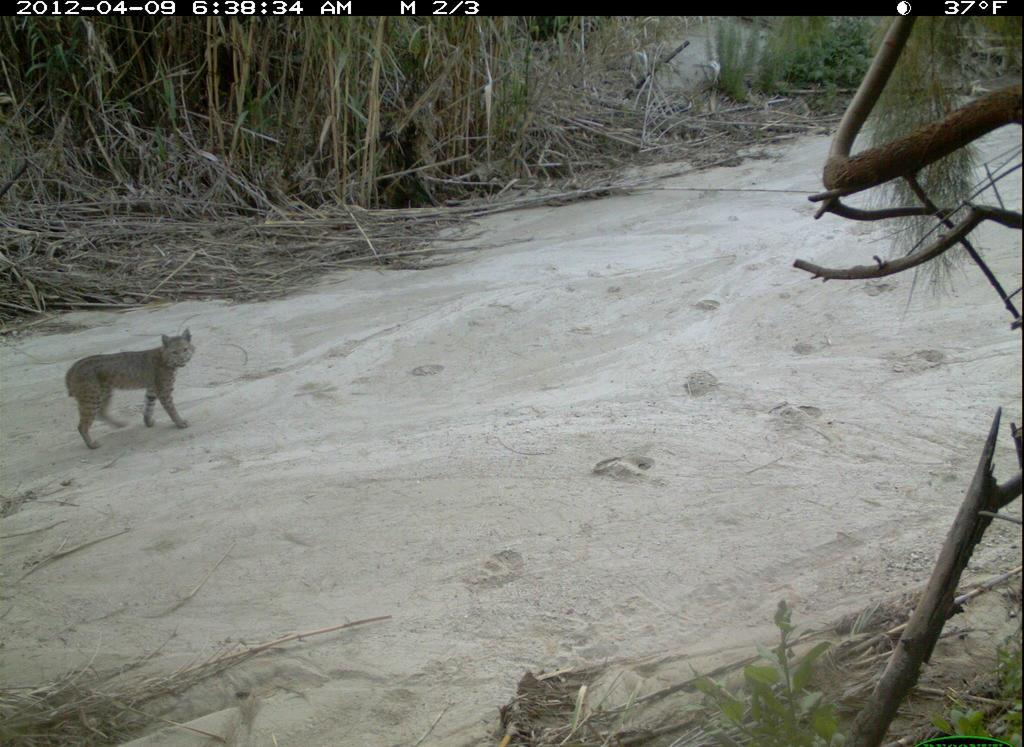bobcat: (63, 324, 212, 460)
